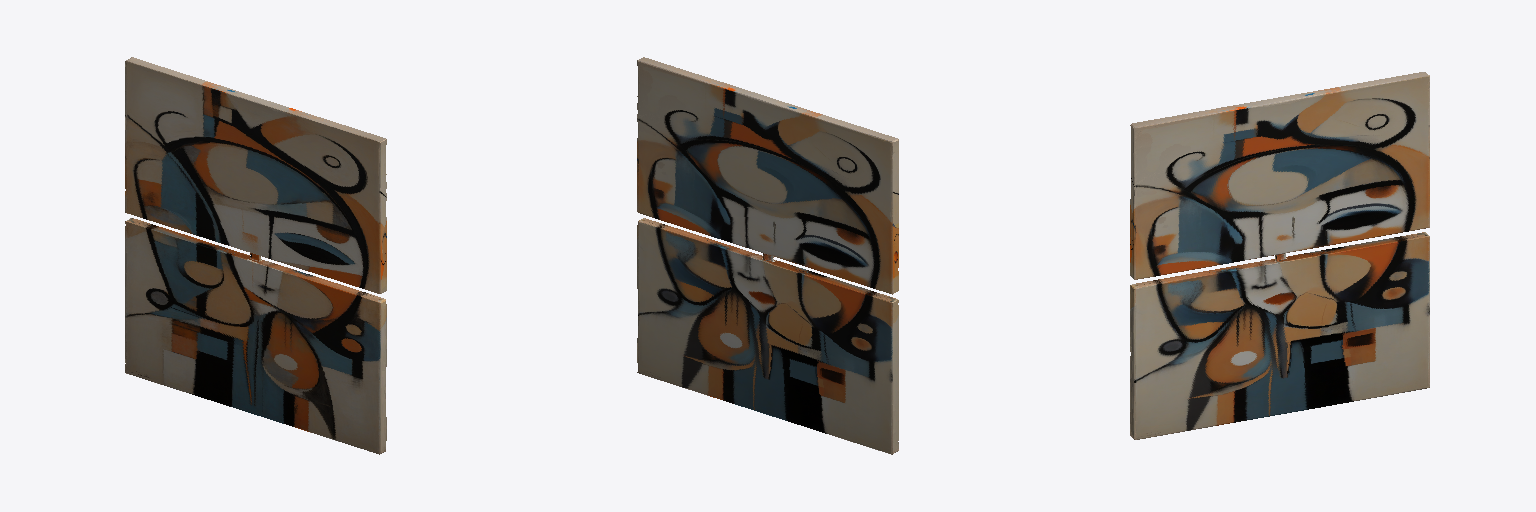
3 views of the same model, side by side, from view 1: azimuth 30°, elevation 25°; view 2: azimuth 210°, elevation 25°; view 3: azimuth 270°, elevation 25° (orthographic).
Parts seen in each view (by area): view 1: cuadronuevo2; view 2: cuadronuevo2; view 3: cuadronuevo2.
Boxes of the visible parts, <box> form: cuadronuevo2: <box>125,57,386,454</box>; cuadronuevo2: <box>637,57,898,454</box>; cuadronuevo2: <box>1130,72,1429,439</box>.
Size of the model in its own units: 3.25 by 8.42 by 7.31.
1 materials, 1 textured.